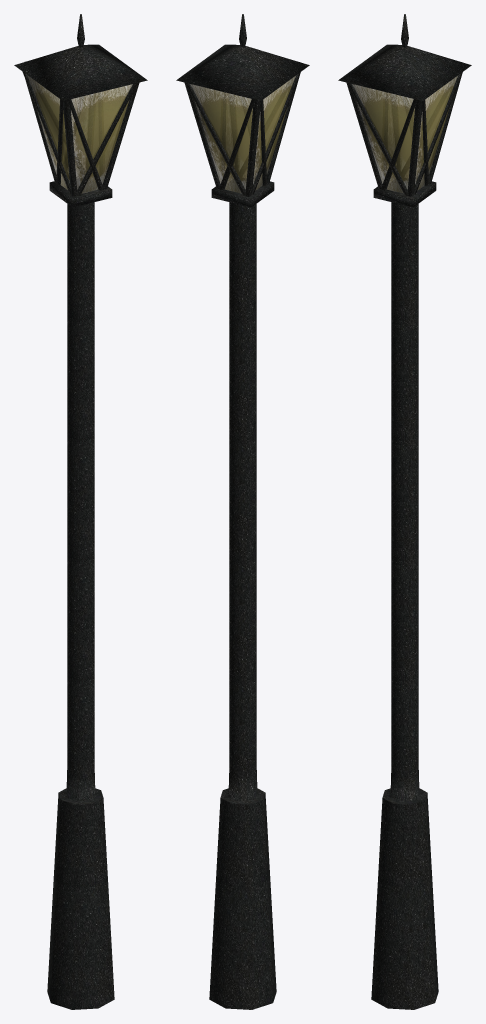
Rendered from lamp.fbx.
The picture shows the model from 3 angles, left to right: view 1: azimuth 30°, elevation 25°; view 2: azimuth 150°, elevation 25°; view 3: azimuth 330°, elevation 25°; orthographic projection.
Visible parts, largest first — view 1: lamp, lamp_glass; view 2: lamp, lamp_glass; view 3: lamp, lamp_glass.
Part boxes in pixels (x1,y1,x2,y2): lamp: [14, 14, 147, 1009]; lamp_glass: [27, 75, 132, 193]; lamp: [176, 14, 309, 1009]; lamp_glass: [190, 76, 295, 193]; lamp: [338, 14, 471, 1009]; lamp_glass: [352, 76, 457, 193].
Size of the model in its own units: 30.82 by 340 by 30.82.
